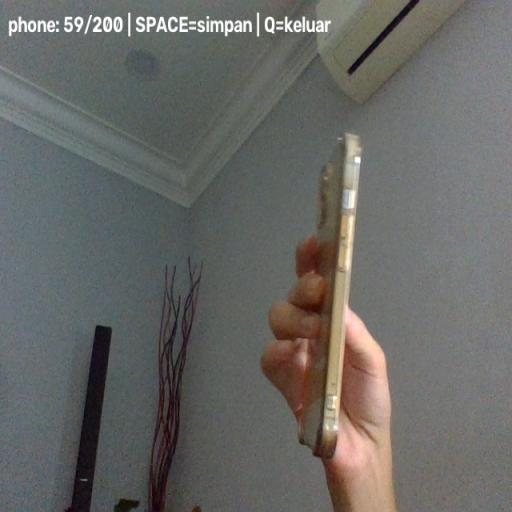Phone: (298, 132, 364, 458)
